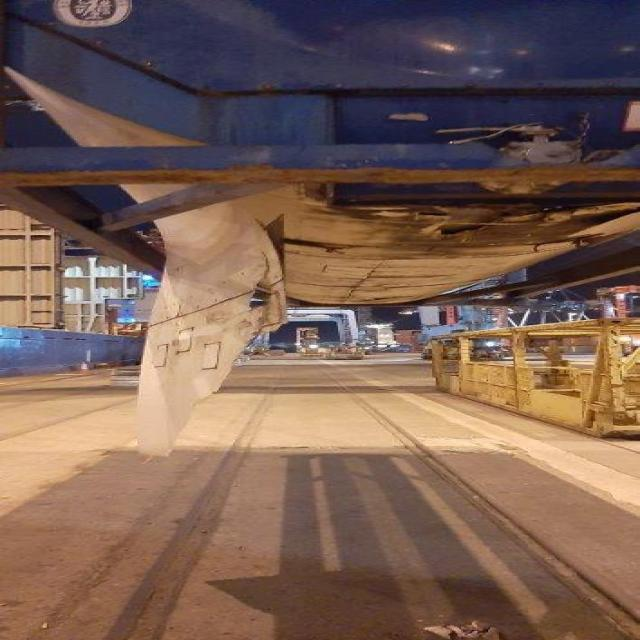dent: (1, 138, 319, 183)
